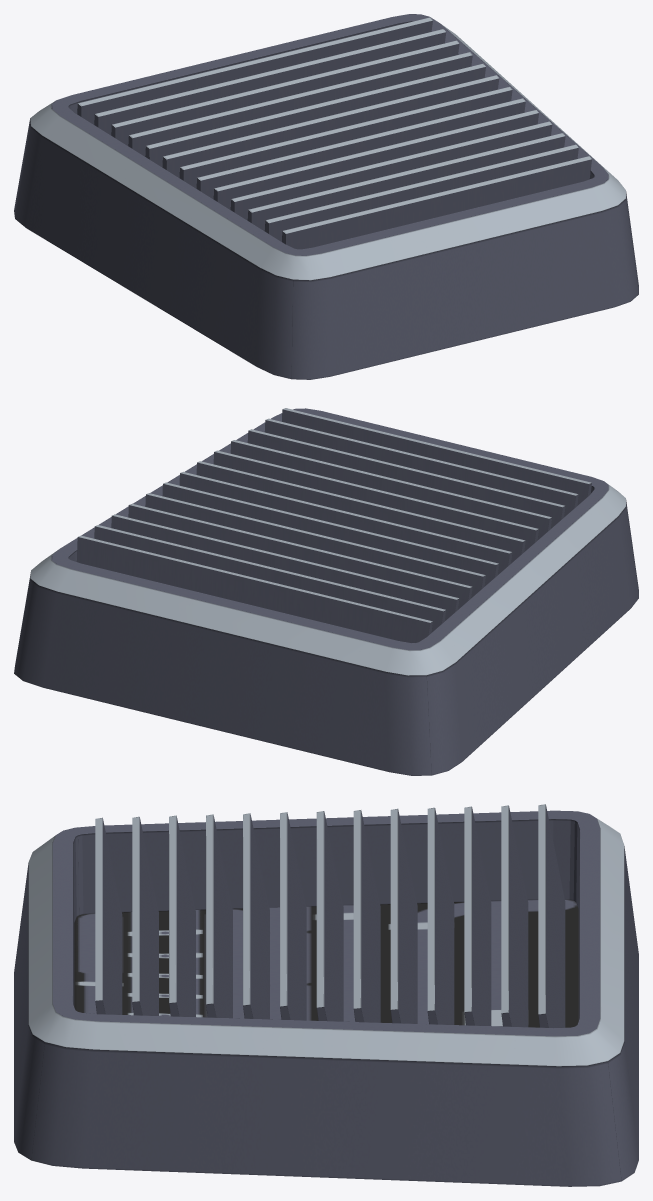
File: Air_Grid_02.FBX
3 views of the same model, one above another, from view 1: azimuth 30°, elevation 25°; view 2: azimuth 150°, elevation 25°; view 3: azimuth 270°, elevation 25° (orthographic). The views are drawn at different scales.
Visible parts, largest first — view 1: Air_Grid_02; view 2: Air_Grid_02; view 3: Air_Grid_02.
Boxes of the visible parts, left/top/right/bottom form: Air_Grid_02: left=14, top=14, right=638, bottom=379; Air_Grid_02: left=14, top=408, right=638, bottom=775; Air_Grid_02: left=14, top=804, right=638, bottom=1186.
Bounding box in the file's own units: 4.15 × 1.11 × 4.23.
2 materials, 2 textured.
